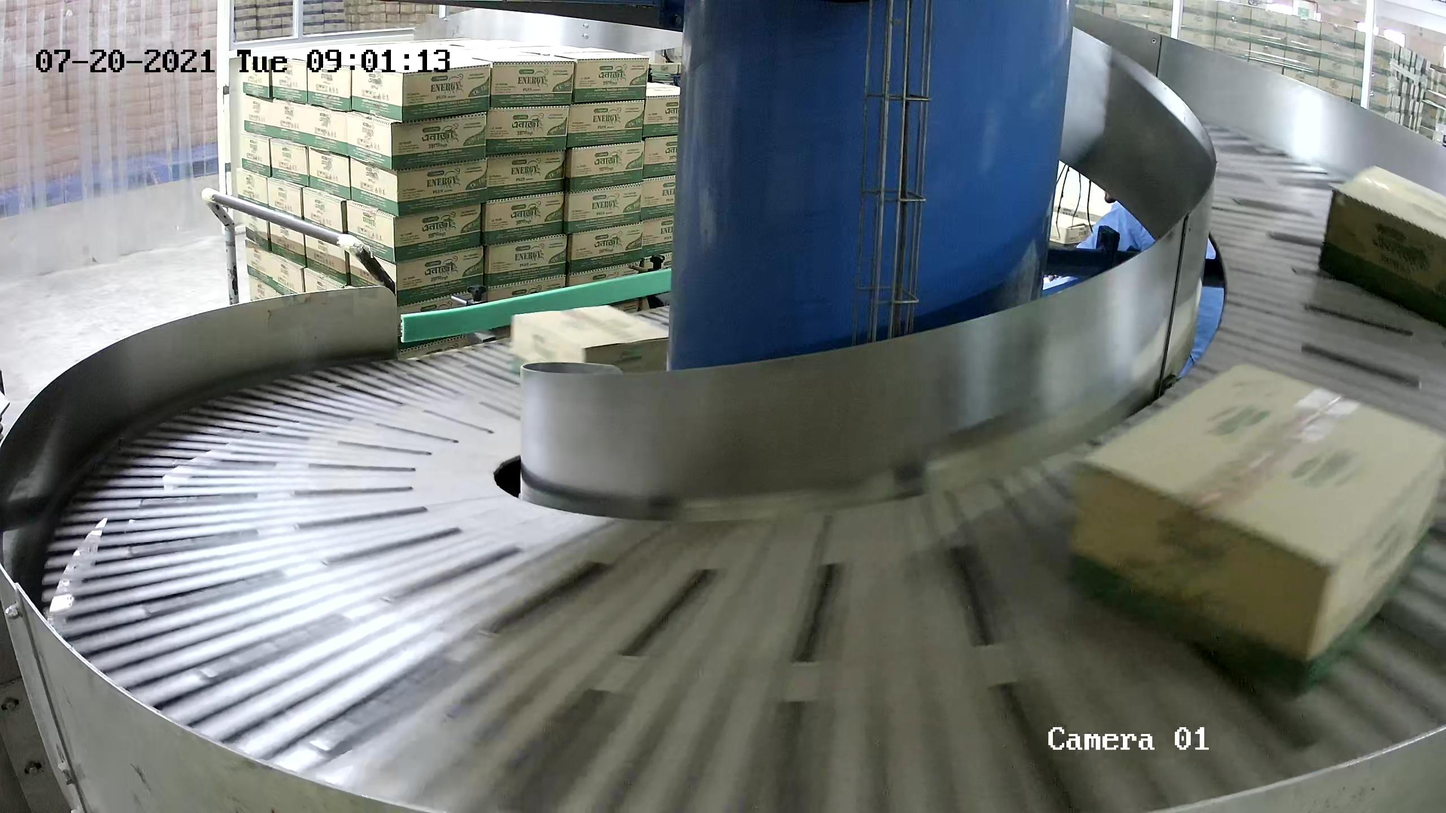Box: (1062, 359, 1446, 701), (1315, 160, 1446, 327), (511, 305, 676, 392)
